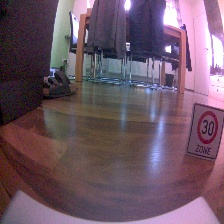dreisiger_zone: (184, 102, 224, 161)
